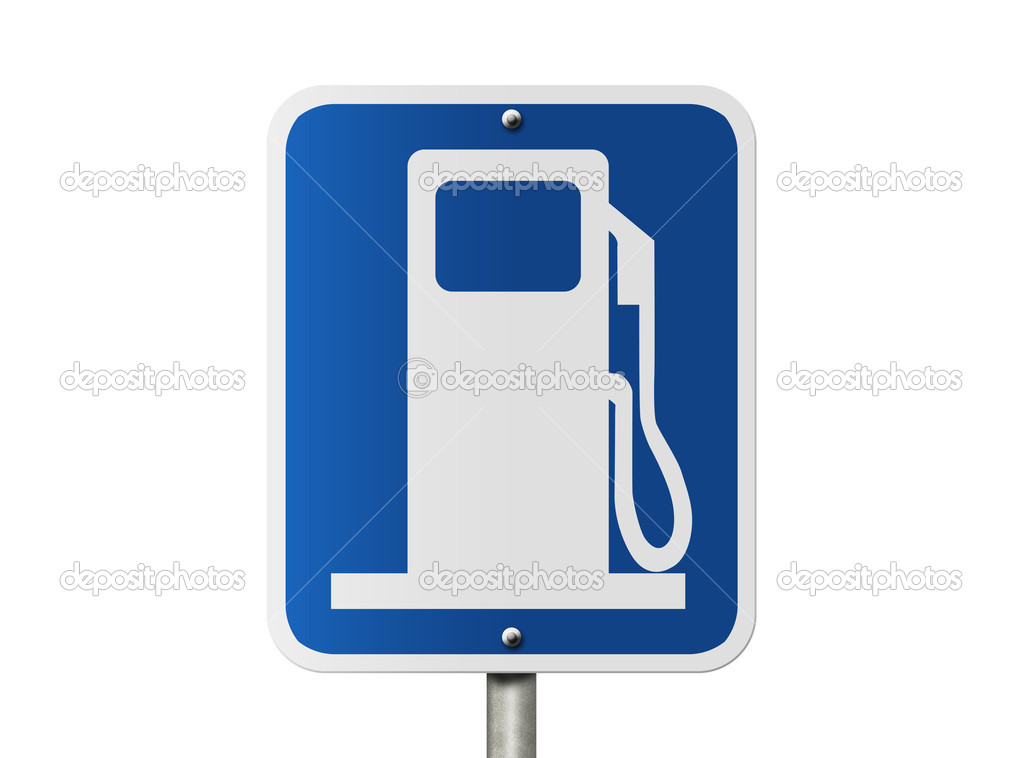fuel-station: (274, 100, 746, 654)
